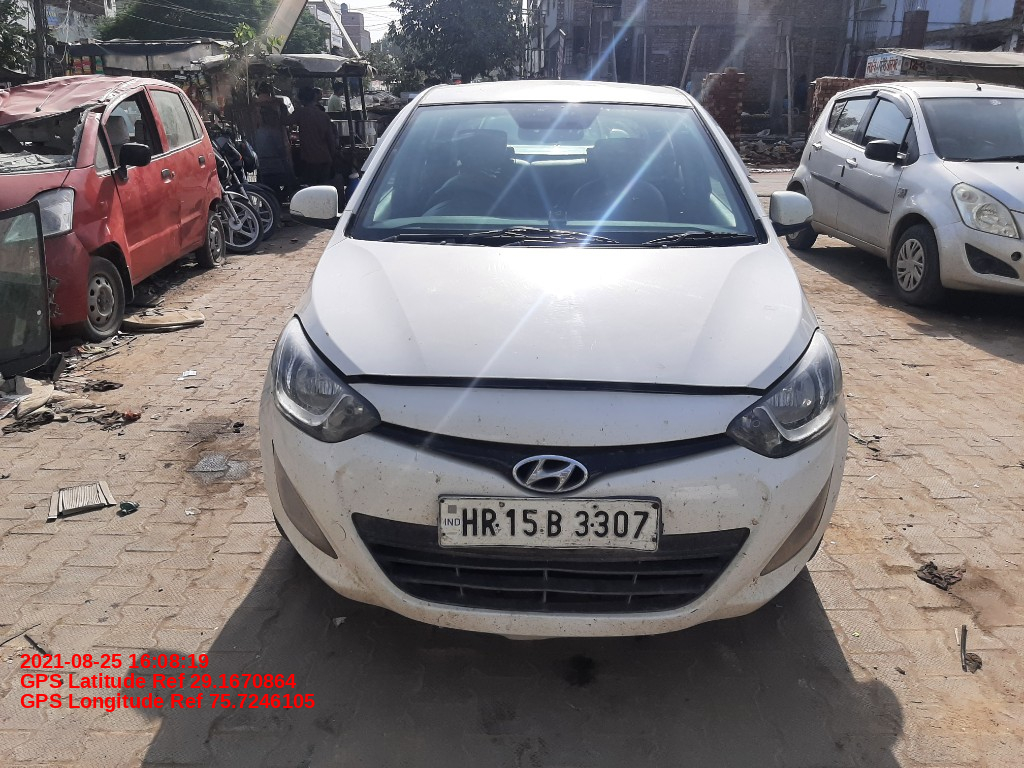Cracked: (268, 437, 279, 459)
Scratched: (434, 607, 464, 630), (429, 466, 446, 486), (348, 534, 361, 552), (789, 559, 804, 574), (689, 605, 702, 615)
